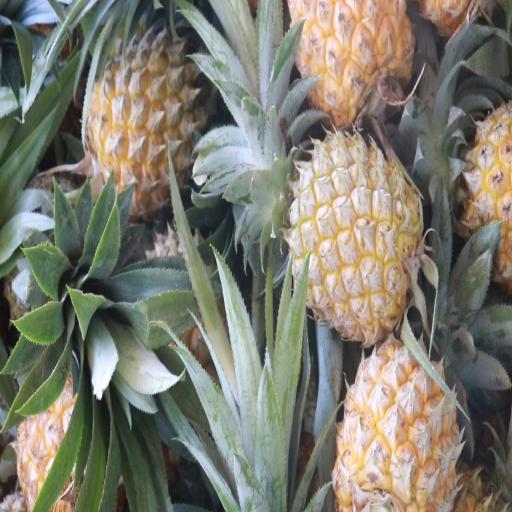------------------------------: (83, 32, 207, 206)
Pineapple - v8 v1: (291, 132, 423, 338), (332, 333, 464, 512), (296, 0, 414, 128)
